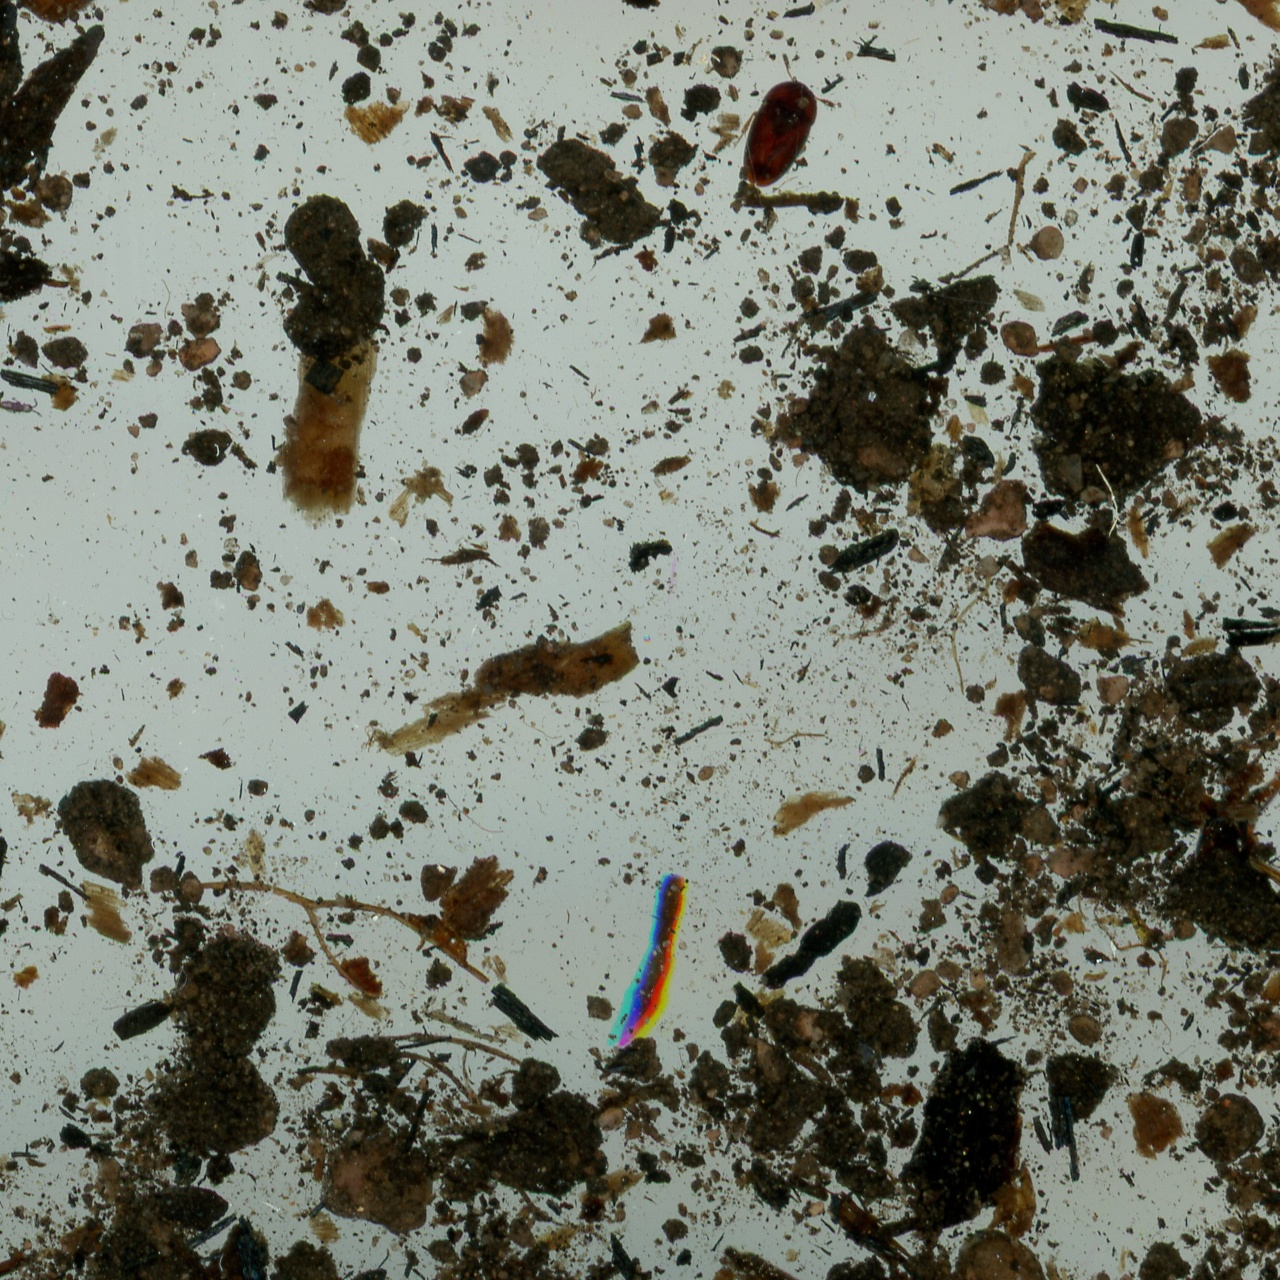arthropod: (0, 395, 45, 418)
